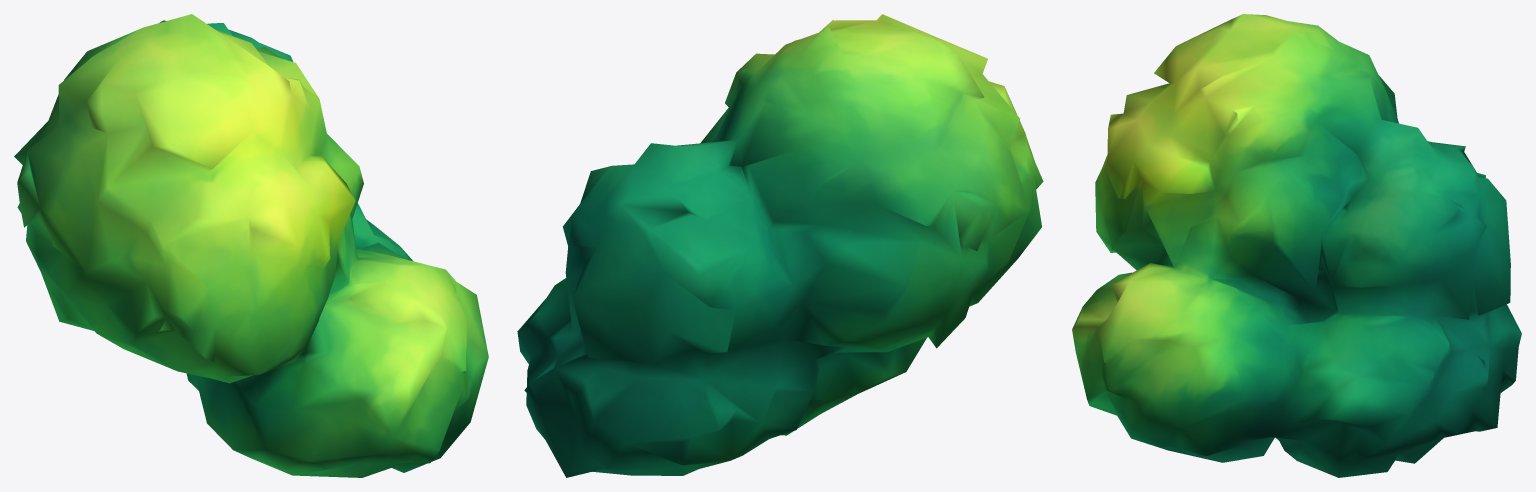
Rendered from model_raw.glb.
3 renders of one model, left to right at view 1: azimuth 30°, elevation 25°; view 2: azimuth 150°, elevation 25°; view 3: azimuth 270°, elevation 25°, orthographic. The views are drawn at different scales.
Visible parts, largest first — view 1: tripo_node_2c046b47-5d2d-4ea7-a3a3-27a5646bb550; view 2: tripo_node_2c046b47-5d2d-4ea7-a3a3-27a5646bb550; view 3: tripo_node_2c046b47-5d2d-4ea7-a3a3-27a5646bb550.
Boxes of the visible parts, x1,y1,x2,y2 form: tripo_node_2c046b47-5d2d-4ea7-a3a3-27a5646bb550: [14, 14, 488, 477]; tripo_node_2c046b47-5d2d-4ea7-a3a3-27a5646bb550: [517, 14, 1043, 477]; tripo_node_2c046b47-5d2d-4ea7-a3a3-27a5646bb550: [1072, 14, 1521, 477].
Size of the model in its own units: 0.9002 by 0.8964 by 1.
Materials: 1 (1 with a texture image).
